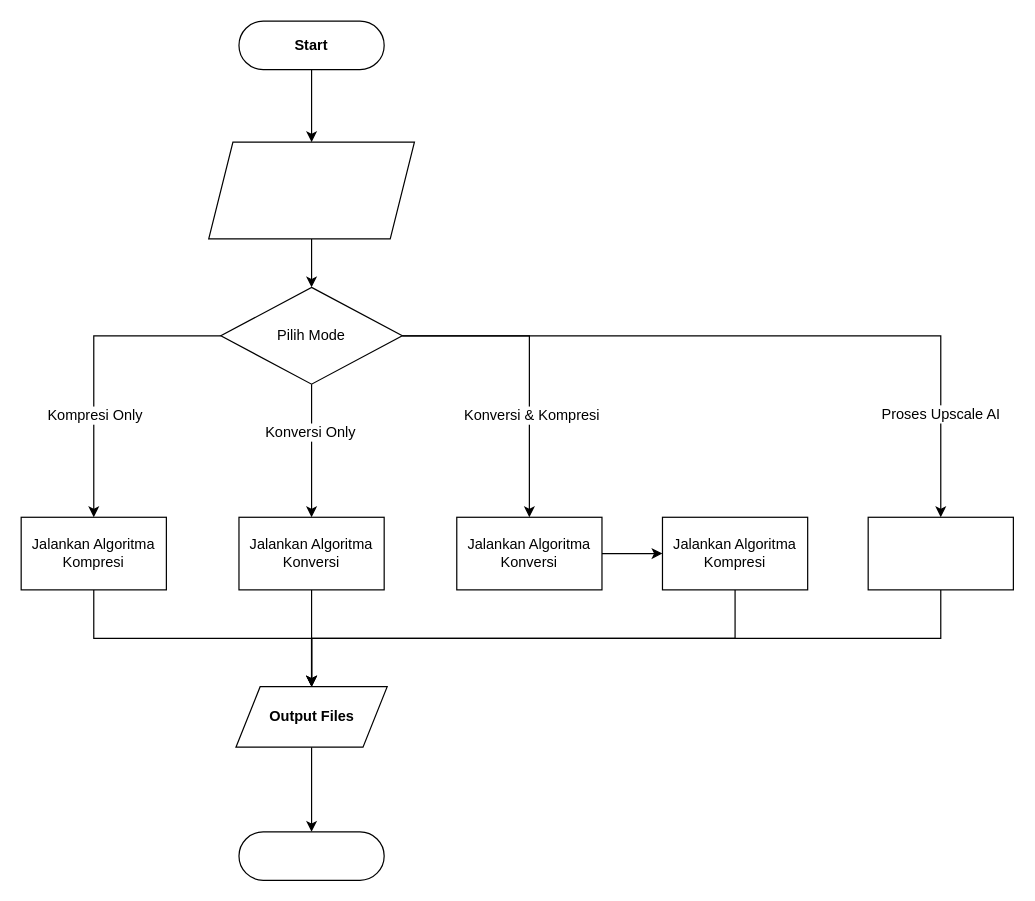
The diagram is 1035 pixels wide and 901 high, and some of its shapes have lost their labels. The shapes that lost their labels are listed below. From the top down, each one's centre as x and y in pixels, then its label:
point 311,190: Input 1. Gambar 2. PDF 3. Docs
point 940,553: AI Upscale Gambar
point 311,855: End
